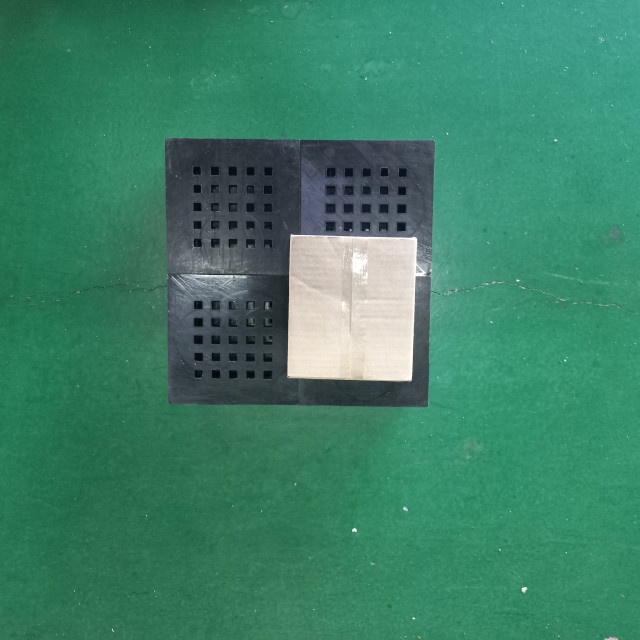box: (287, 233, 417, 384)
pallet: (160, 134, 436, 406)
